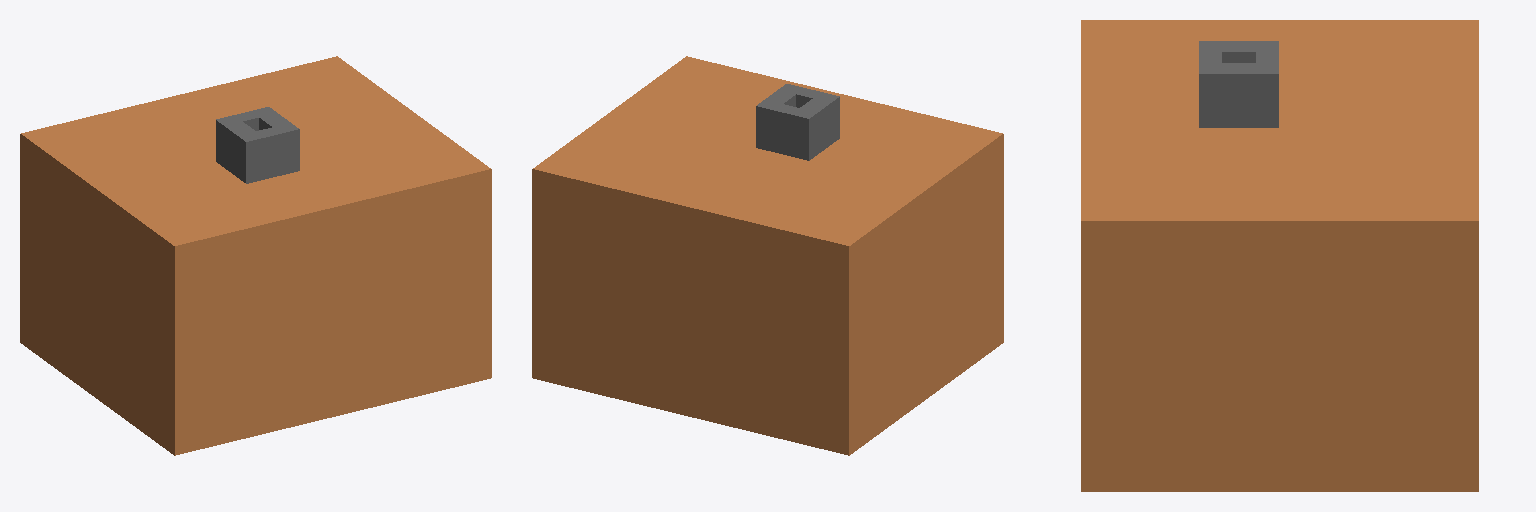
robot.urdf — peg_in_hole_scene_0060_tol05:
<?xml version="1.0"?>
<robot name="peg_in_hole_scene_0060_tol05">
  <material name="wood"><color rgba="0.82 0.56 0.35 1.0"/></material>
  <material name="hole_grey"><color rgba="0.4706 0.4706 0.4706 1.0"/></material>
  <link name="box">
    <visual>
      <origin xyz="0.000000 0.000000 0.000000" rpy="0 0 0"/>
      <geometry><box size="0.475000 0.400000 0.300000"/></geometry>
      <material name="wood"/>
    </visual>
    <collision>
      <origin xyz="0.000000 0.000000 0.000000" rpy="0 0 0"/>
      <geometry><box size="0.475000 0.400000 0.300000"/></geometry>
    </collision>
    <visual>
      <origin xyz="-0.021239 -0.041035 0.155000" rpy="0 0 0"/>
      <geometry><box size="0.080000 0.080000 0.010000"/></geometry>
      <material name="hole_grey"/>
    </visual>
    <collision>
      <origin xyz="-0.021239 -0.041035 0.155000" rpy="0 0 0"/>
      <geometry><box size="0.080000 0.080000 0.010000"/></geometry>
    </collision>
    <visual>
      <origin xyz="0.004936 -0.041035 0.185000" rpy="0 0 0"/>
      <geometry><box size="0.027650 0.080000 0.050000"/></geometry>
      <material name="hole_grey"/>
    </visual>
    <collision>
      <origin xyz="0.004936 -0.041035 0.185000" rpy="0 0 0"/>
      <geometry><box size="0.027650 0.080000 0.050000"/></geometry>
    </collision>
    <visual>
      <origin xyz="-0.047414 -0.041035 0.185000" rpy="0 0 0"/>
      <geometry><box size="0.027650 0.080000 0.050000"/></geometry>
      <material name="hole_grey"/>
    </visual>
    <collision>
      <origin xyz="-0.047414 -0.041035 0.185000" rpy="0 0 0"/>
      <geometry><box size="0.027650 0.080000 0.050000"/></geometry>
    </collision>
    <visual>
      <origin xyz="-0.021239 -0.012360 0.185000" rpy="0 0 0"/>
      <geometry><box size="0.024700 0.022650 0.050000"/></geometry>
      <material name="hole_grey"/>
    </visual>
    <collision>
      <origin xyz="-0.021239 -0.012360 0.185000" rpy="0 0 0"/>
      <geometry><box size="0.024700 0.022650 0.050000"/></geometry>
    </collision>
    <visual>
      <origin xyz="-0.021239 -0.069710 0.185000" rpy="0 0 0"/>
      <geometry><box size="0.024700 0.022650 0.050000"/></geometry>
      <material name="hole_grey"/>
    </visual>
    <collision>
      <origin xyz="-0.021239 -0.069710 0.185000" rpy="0 0 0"/>
      <geometry><box size="0.024700 0.022650 0.050000"/></geometry>
    </collision>
    <inertial>
      <mass value="500"/>
      <friction value="1.0"/>
      <inertia ixx="1000.0" ixy="0.0" ixz="0.0" iyy="1000.0" iyz="0.0" izz="1000.0"/>
    </inertial>
  </link>
</robot>

--- Facts derived from the render (not from the file) ---
The picture shows the robot from 3 angles, left to right: view 1: azimuth 30°, elevation 25°; view 2: azimuth 150°, elevation 25°; view 3: azimuth 270°, elevation 25°; orthographic projection.
Robot: peg_in_hole_scene_0060_tol05 — 1 links, 0 joints (none); root link box; default pose: all joints at 0.
Links seen in each view (by area): view 1: box; view 2: box; view 3: box.
Boxes of the visible links, x1=… form: box: x1=20, y1=56, x2=491, y2=455; box: x1=532, y1=56, x2=1003, y2=455; box: x1=1081, y1=20, x2=1478, y2=491.
Bounding box of the posed robot: 0.475 × 0.4 × 0.36 m (x, y, z).
Geometry: primitives only (box / cylinder / sphere), no mesh files.
